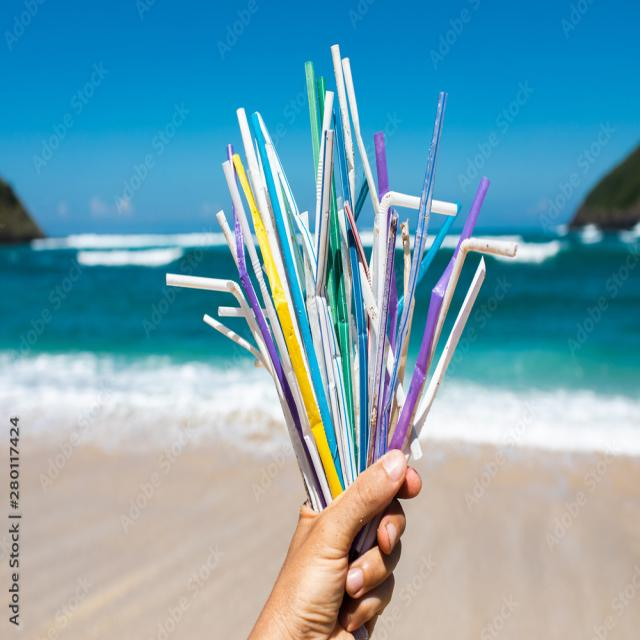plastic: (378, 73, 450, 433)
